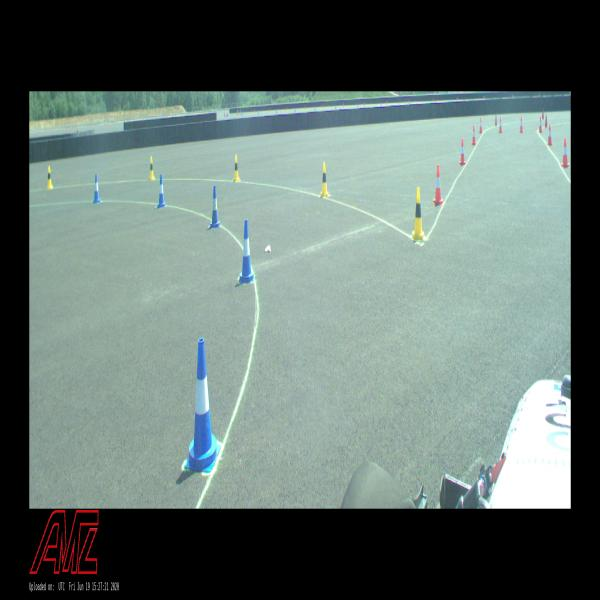blue_cone: (184, 339, 221, 472), (239, 220, 255, 284), (209, 186, 221, 228), (156, 175, 167, 207), (93, 174, 100, 204)
orange_cone: (434, 166, 443, 204), (561, 138, 569, 166), (460, 138, 466, 165), (547, 124, 553, 144), (472, 125, 476, 145), (538, 117, 543, 132), (478, 117, 482, 133), (498, 117, 502, 133), (520, 116, 524, 132)
yellow_cone: (412, 188, 425, 239), (320, 163, 329, 196), (233, 155, 240, 181), (46, 167, 53, 188), (149, 156, 155, 179)
